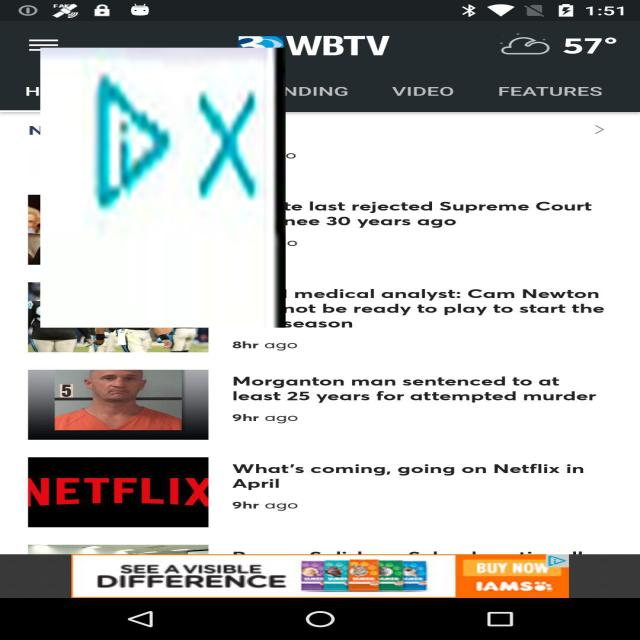sneaking: (40, 48, 286, 328)
